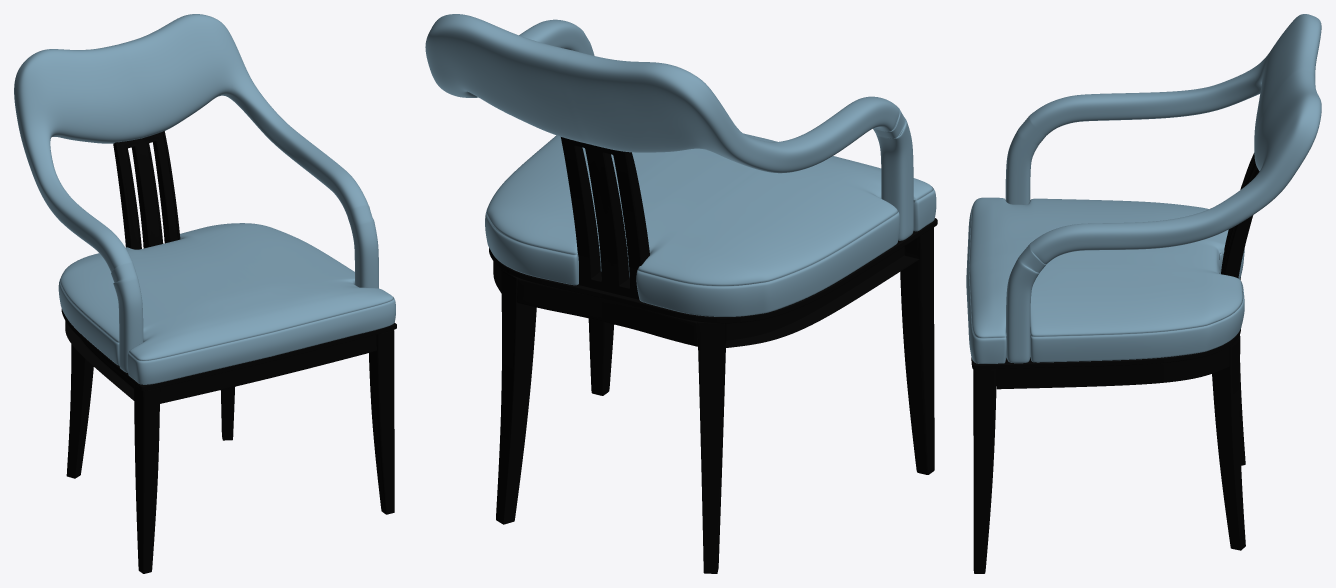
File: Matilde-Chair-Larforma.glb
3 views of the same model, side by side, from view 1: azimuth 30°, elevation 25°; view 2: azimuth 150°, elevation 25°; view 3: azimuth 270°, elevation 25° (orthographic). The views are drawn at different scales.
Visible parts, largest first — view 1: Matilde; view 2: Matilde; view 3: Matilde.
Boxes of the visible parts, x1,y1,x2,y2 form: Matilde: (14, 14, 396, 573); Matilde: (425, 14, 937, 573); Matilde: (966, 14, 1321, 573).
Size of the model in its own units: 0.5716 by 0.8472 by 0.6106.
Materials: 2 (1 with a texture image).
